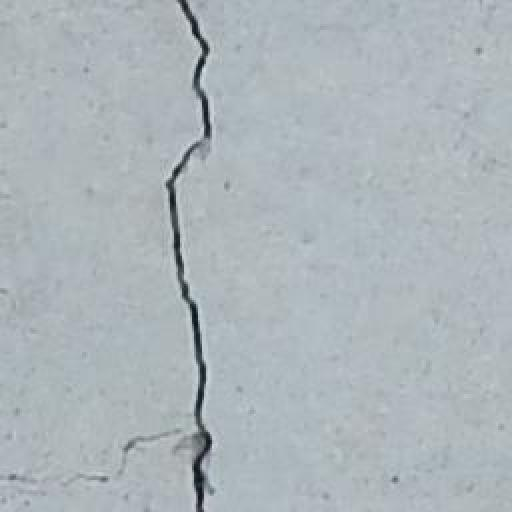spalling: (158, 7, 247, 503)
